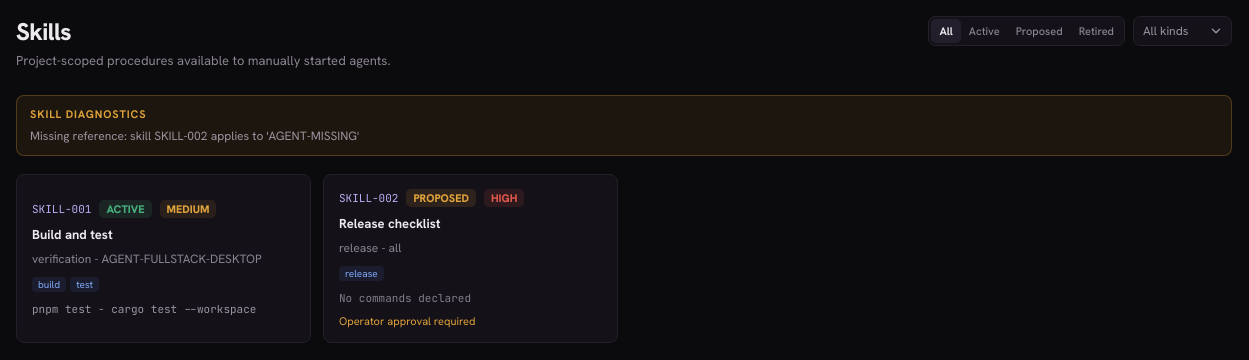
SkillsView › filters by skill status
Click the button "proposed". click: (1039, 31)
box: [1008,19,1071,43]
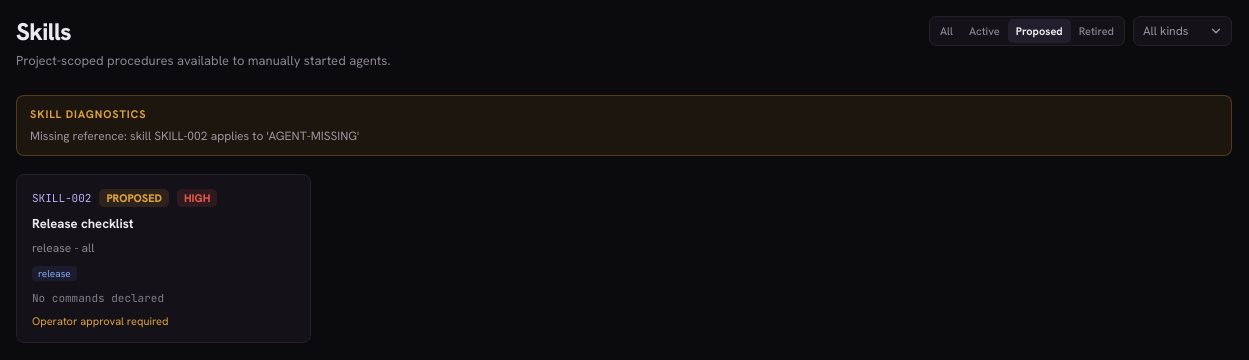
Expected: the text "Release checklist" is shown, [32,214,134,232]
Now the button "Build and test" is gone
